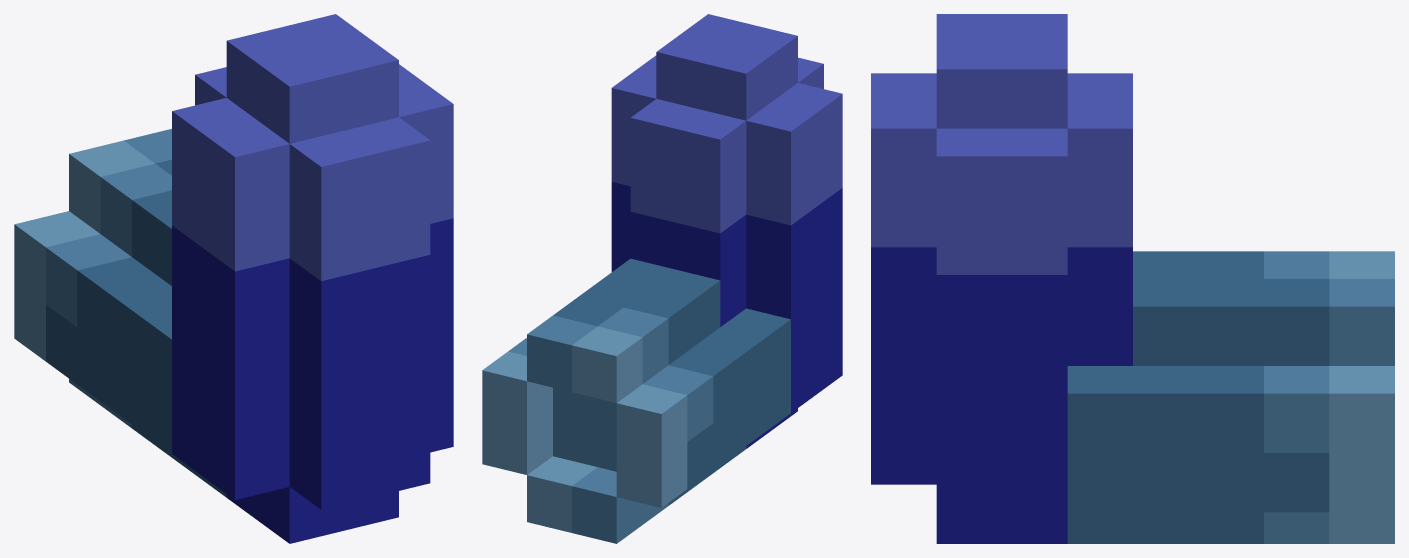
The model's file is IceTowerCannon.obj.
The picture shows the model from 3 angles, left to right: view 1: azimuth 30°, elevation 25°; view 2: azimuth 150°, elevation 25°; view 3: azimuth 270°, elevation 25°; orthographic projection. The views are drawn at different scales.
Size of the model in its own units: 0.4 by 0.8 by 0.8.
1 material, 1 textured.
